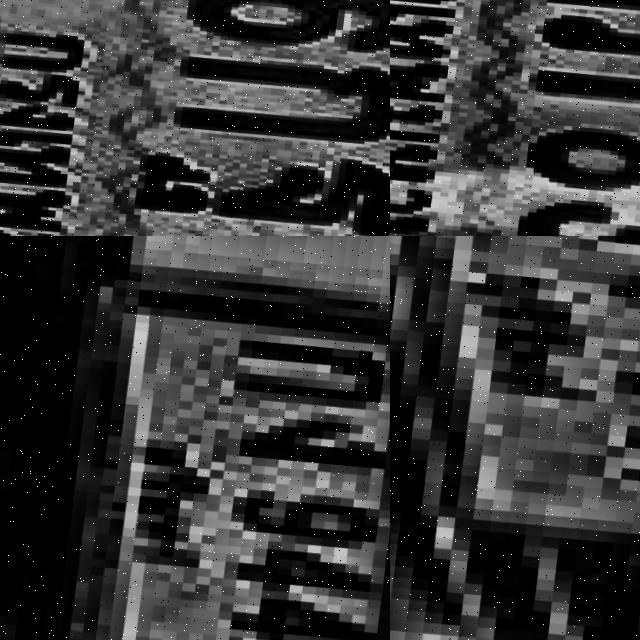license-plate: (30, 251, 390, 640), (0, 0, 390, 236), (390, 236, 640, 572), (390, 0, 640, 236)
